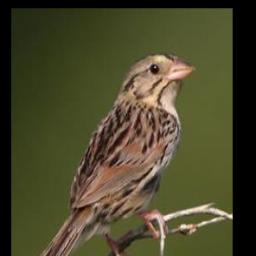Sparrow: (29, 49, 196, 256)
